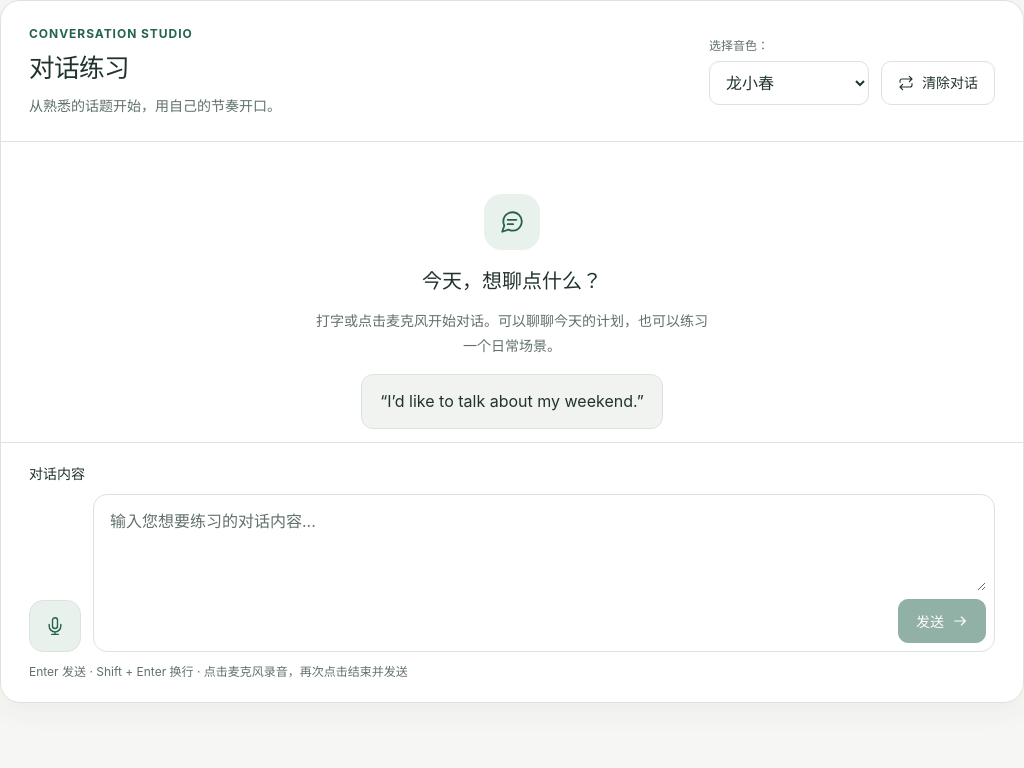
Test: chat concurrency and resource ownership › failed voice request frees its URL and controls recover for another recording
This screenshot has width=1024, height=768.
Step 1. Click the button named "开始录音" → [55, 626], box [29,600,81,652]
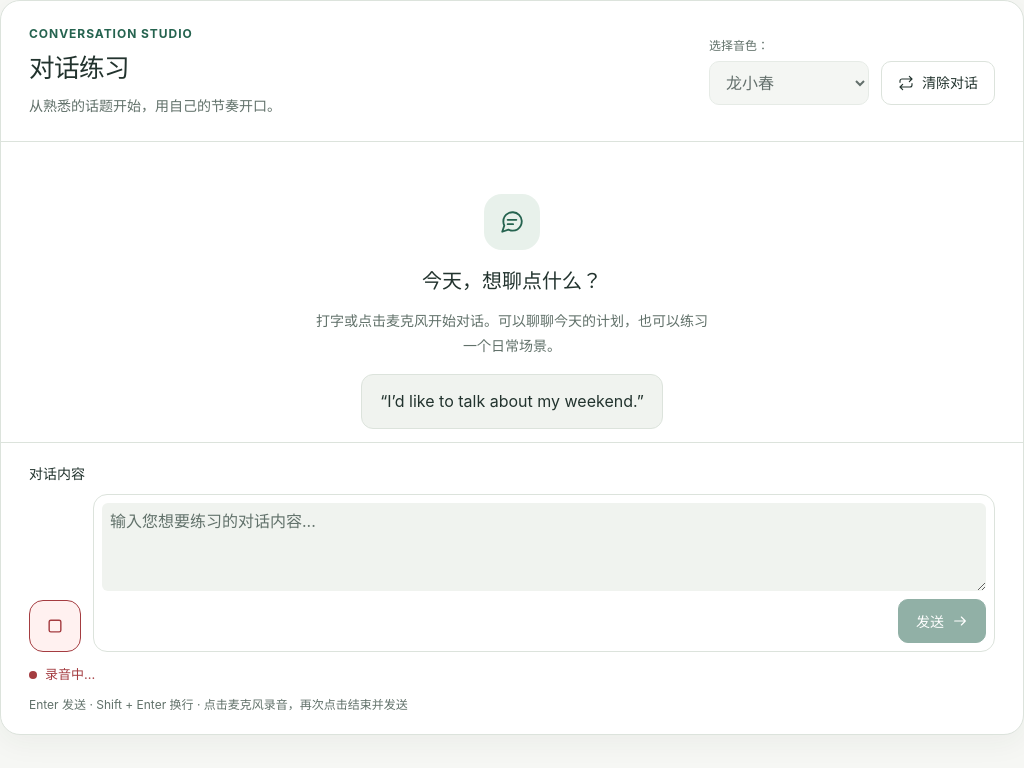
Expected: the button named "停止录音" is shown
Step 2. Click the button named "停止录音" → [55, 626], box [29,600,81,652]
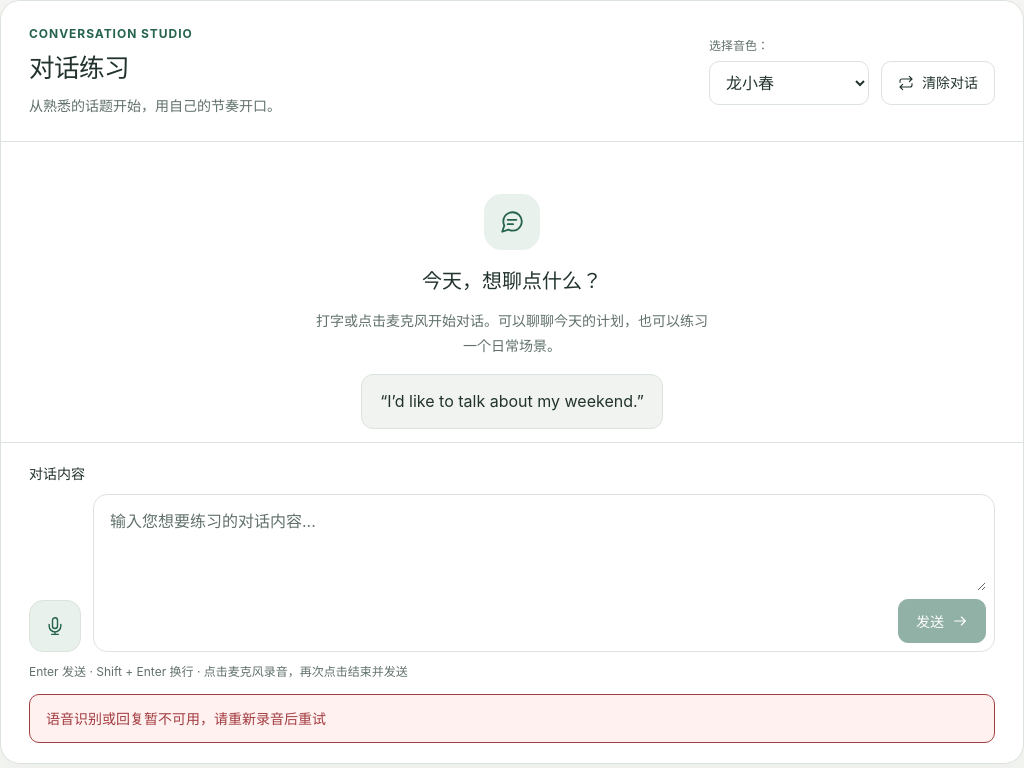
Expected: the message "语音识别或回复暂不可用，请重新录音后重试" is shown, [29,694,995,743]
Step 3. Click the button named "开始录音" → [55, 626], box [29,600,81,652]
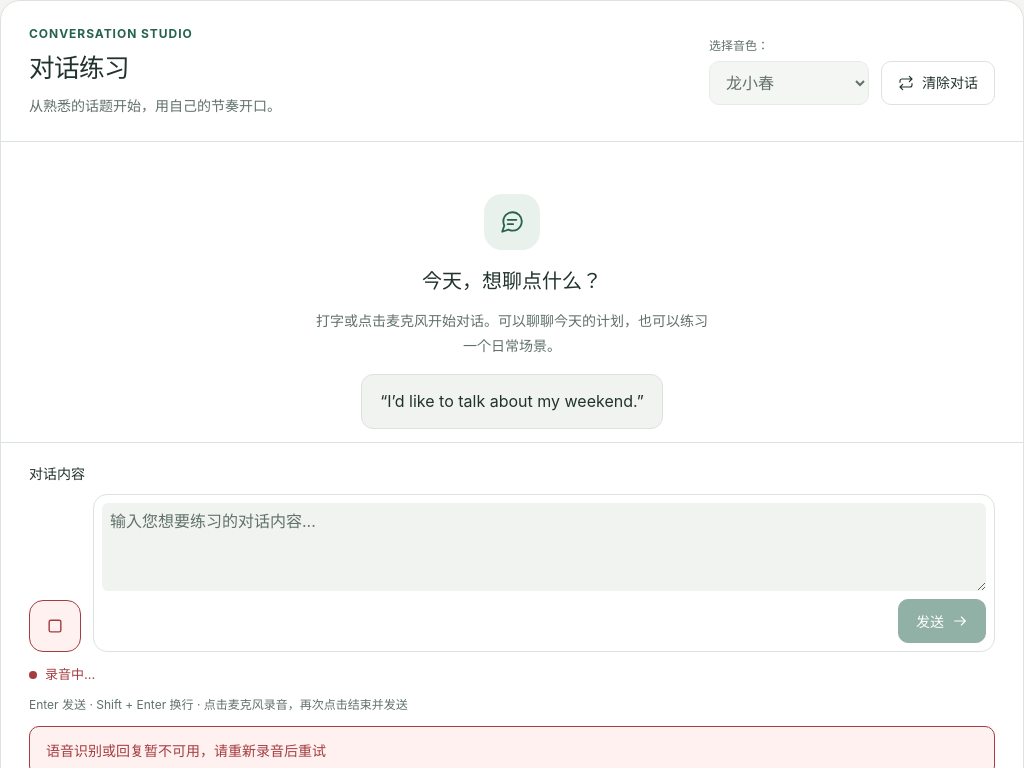
Expected: the button named "停止录音" is shown
Step 4. Click the button named "停止录音" → [55, 626], box [29,600,81,652]
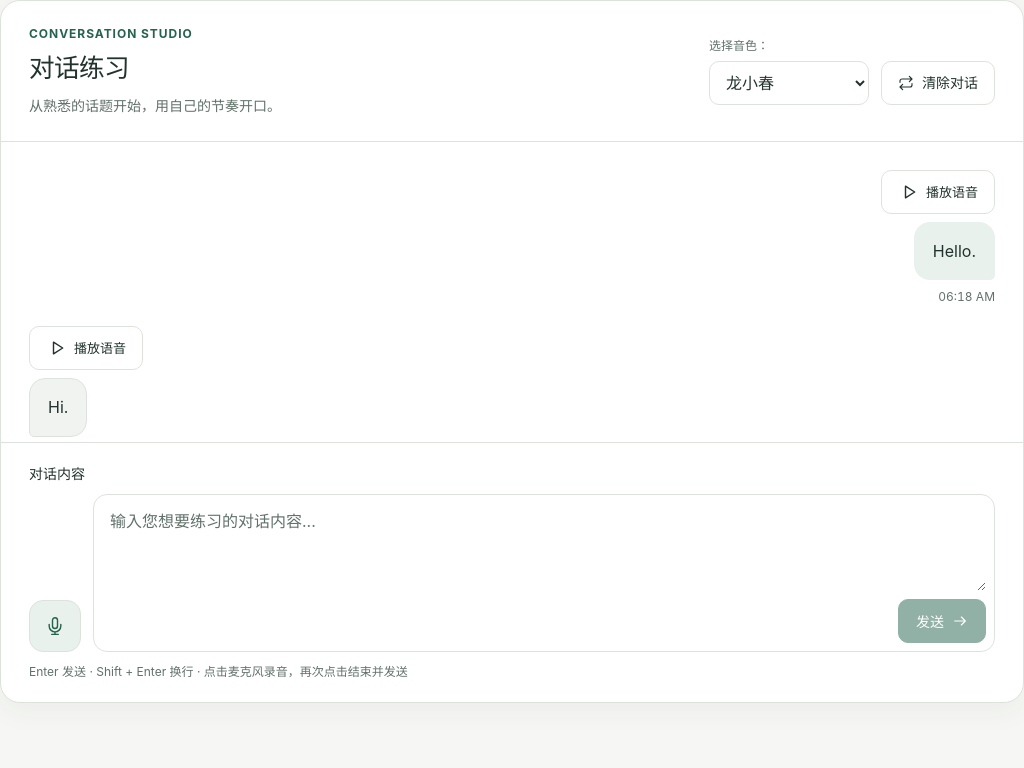
Expected: the text "Hello." is shown, [933,237,976,265]
